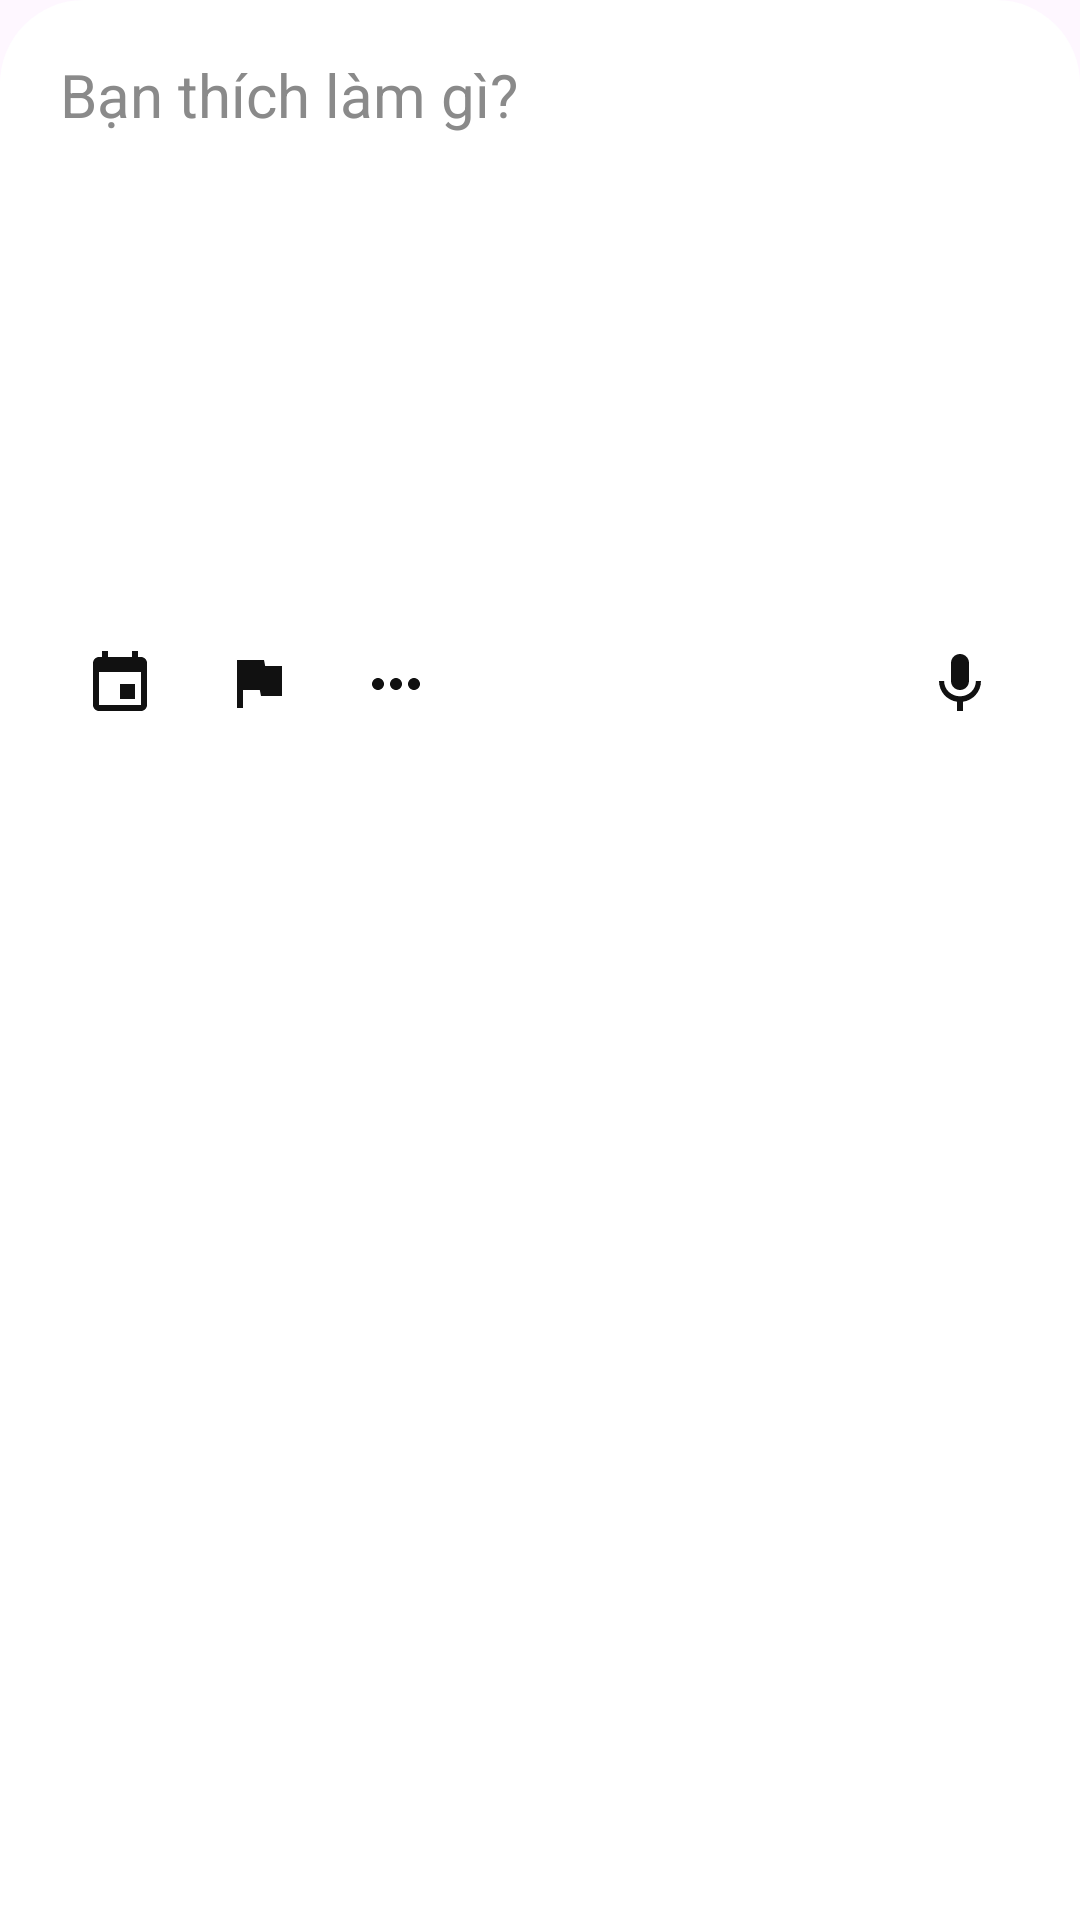

Screen size 1080*1920. Icon name, then its center in pixels as (x=x, y=y):
Cờ: (x=259, y=684)
Lịch: (x=120, y=681)
Micro: (x=960, y=682)
Thêm tùy chọn: (x=396, y=684)
